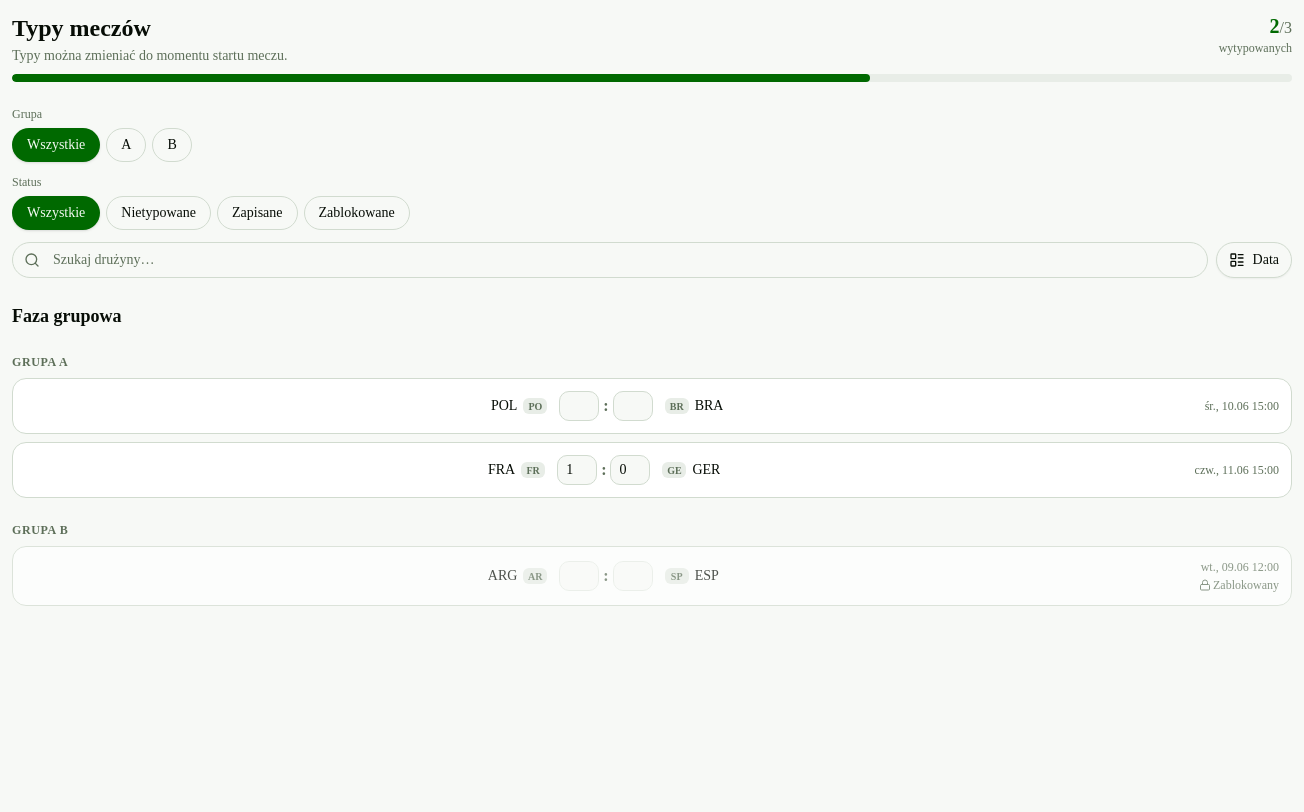
PredictionsBoard › filtering by status 'Nietypowane' hides saved and locked matches
The image size is (1304, 812).
Click the button "Nietypowane" at {"x": 159, "y": 213}, box [106,196,211,230]
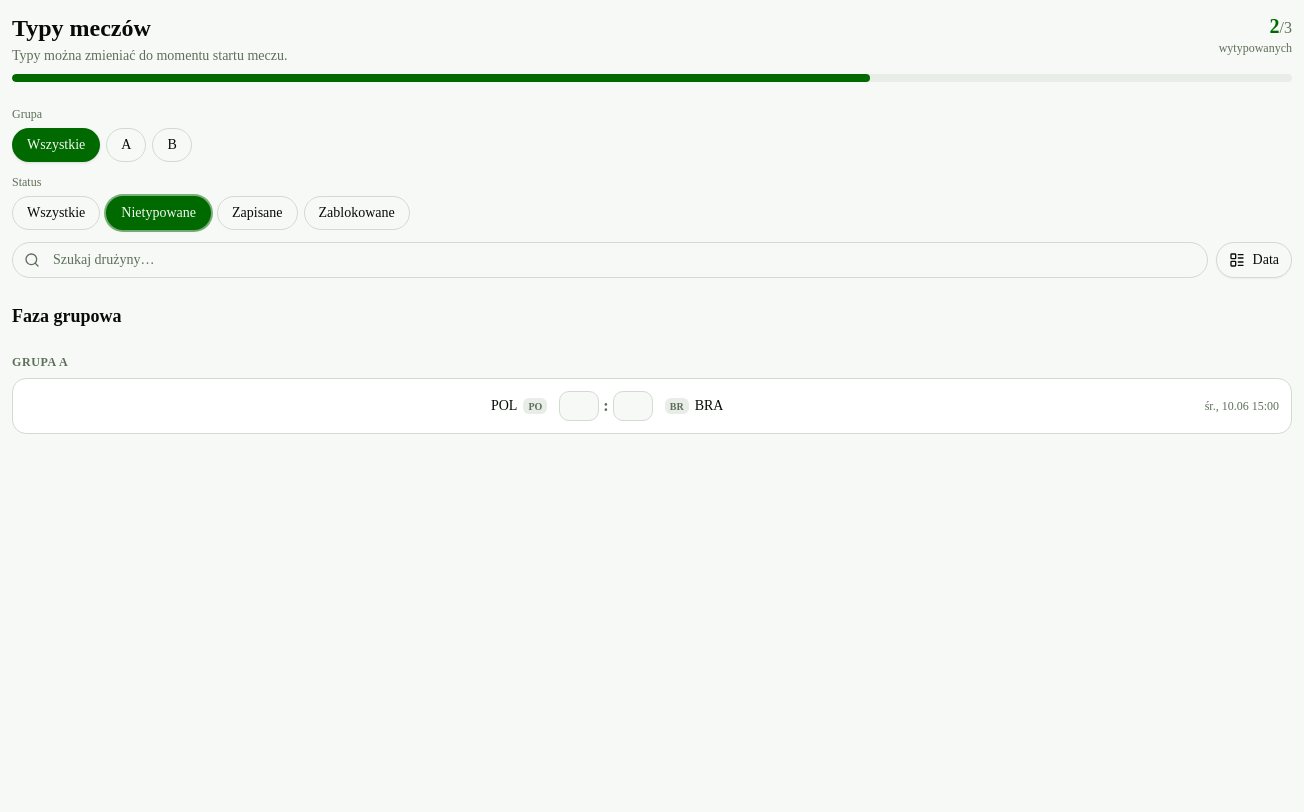
Check: the text "POL" is shown, box [491,396,517,416]
Check: the text "FRA" is gone
Check: the text "ARG" is gone
